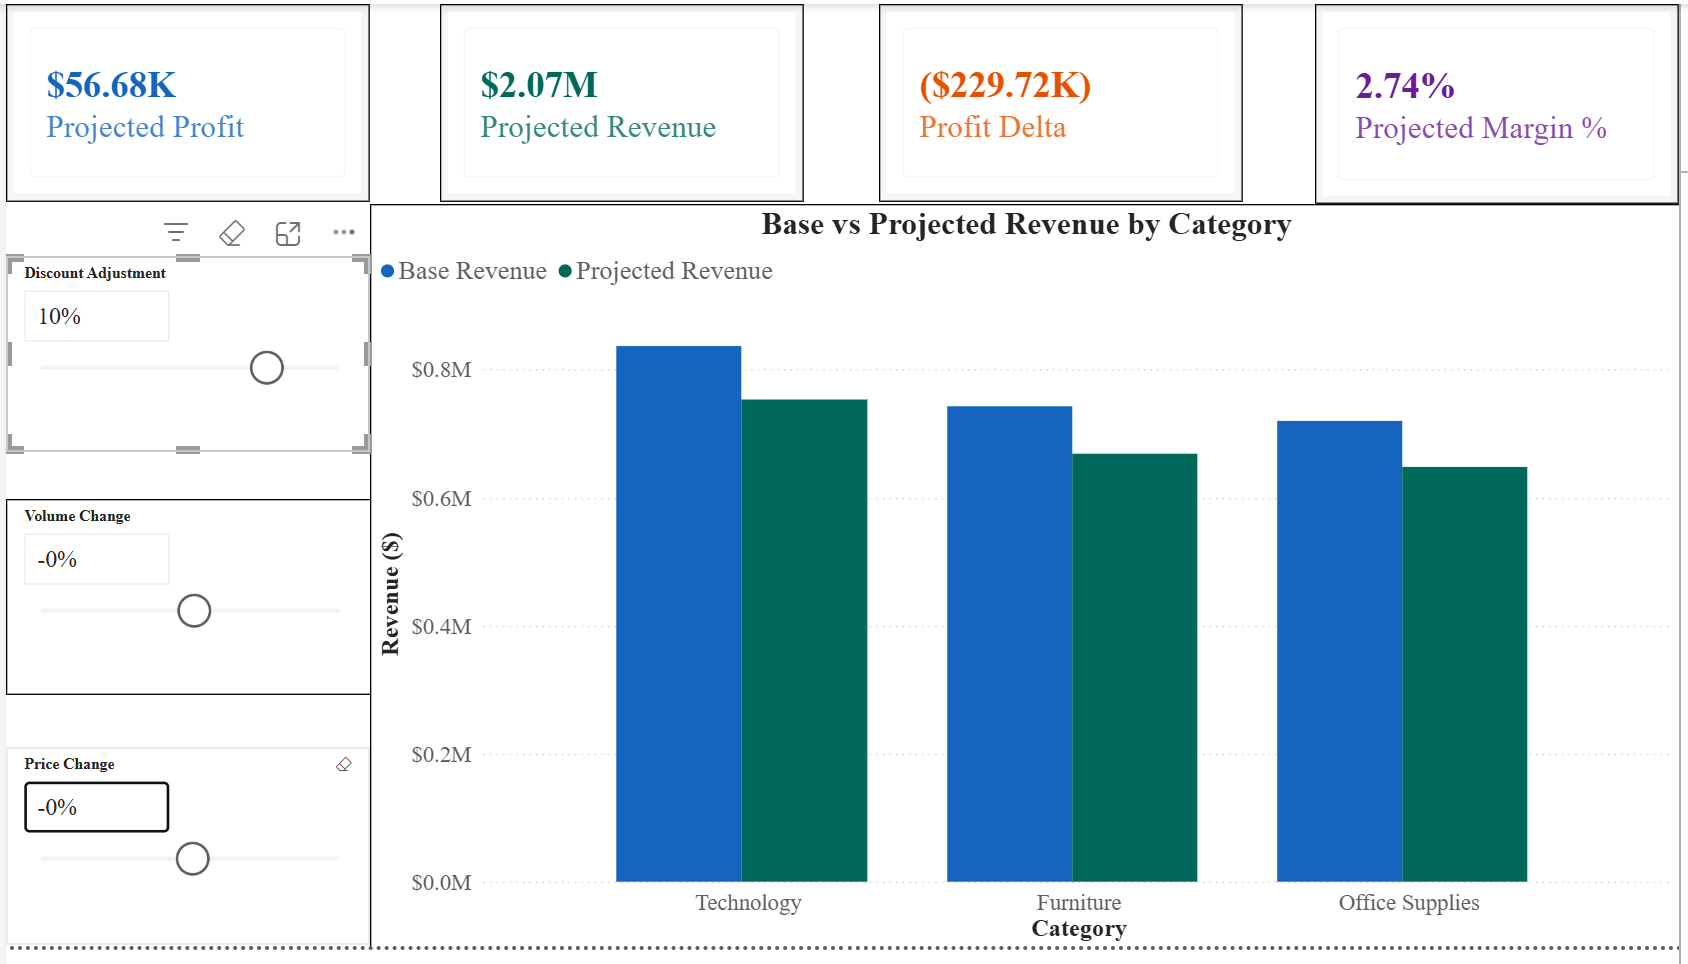

This screenshot's page, from the dashboard's own definition file:
{"tool":"powerbi","page":{"name":"What-If Simulator","canvas":[1280,720],"ordinal":4},"visuals":[{"type":"slicer","fields":{"Values":["Price Change.Price Change"]},"box":[0,568,278.7,151.6],"z":0},{"type":"slicer","fields":{"Values":["Discount Adjustment.Discount Adjustment"]},"box":[0,192.9,278.7,150],"z":1000},{"type":"slicer","fields":{"Values":["Volume Change.Volume Change"]},"box":[0,378.2,280.2,150],"z":2000},{"type":"cardVisual","fields":{"Data":["_Measures.Projected Profit"]},"box":[0,0,278.7,151.6],"z":3000},{"type":"cardVisual","fields":{"Data":["_Measures.Projected Revenue"]},"box":[332.2,0,278.7,151.6],"z":4000},{"type":"cardVisual","fields":{"Data":["_Measures.Profit Delta"]},"box":[667.6,0,278.7,151.6],"z":5000},{"type":"cardVisual","fields":{"Data":["_Measures.Projected Margin %"]},"box":[1001.3,0,278.7,153.1],"z":6000},{"type":"clusteredColumnChart","title":"Base vs Projected Revenue by Category","fields":{"Category":["retailpulse sales.category"],"Y":["_Measures.Base Revenue","_Measures.Projected Revenue"]},"box":[278.7,153.1,1002.9,569.6],"z":7000}]}

Visuals, with their boxes in screenshot pixels (x1, y1, x2, y2):
slicer - Price Change.Price Change: bbox(4, 739, 367, 936)
slicer - Discount Adjustment.Discount Adjustment: bbox(4, 251, 367, 446)
slicer - Volume Change.Volume Change: bbox(4, 492, 369, 687)
cardVisual - _Measures.Projected Profit: bbox(4, 0, 367, 197)
cardVisual - _Measures.Projected Revenue: bbox(436, 0, 799, 197)
cardVisual - _Measures.Profit Delta: bbox(873, 0, 1235, 197)
cardVisual - _Measures.Projected Margin %: bbox(1307, 0, 1669, 199)
"Base vs Projected Revenue by Category" clusteredColumnChart: bbox(367, 199, 1671, 940)
